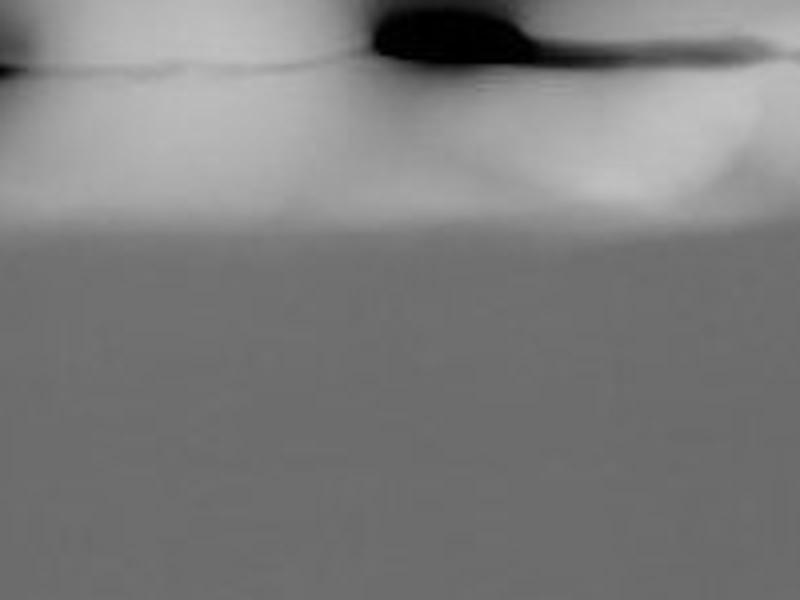defect: (370, 3, 542, 68)
